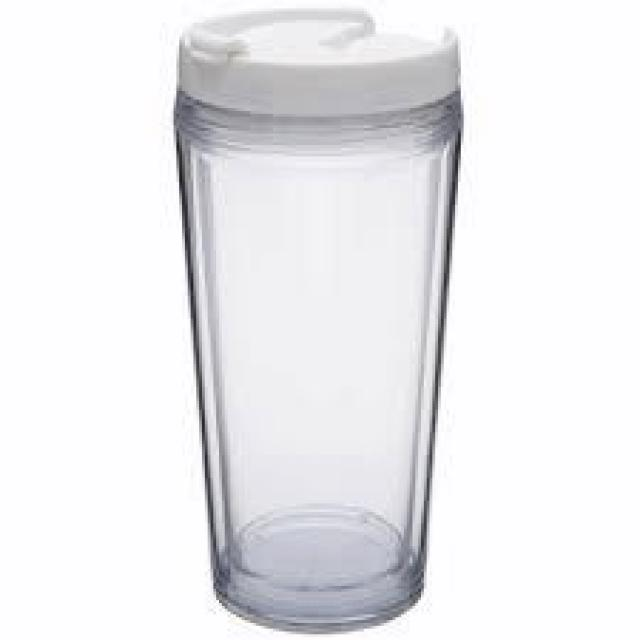bottle: (172, 13, 468, 633)
